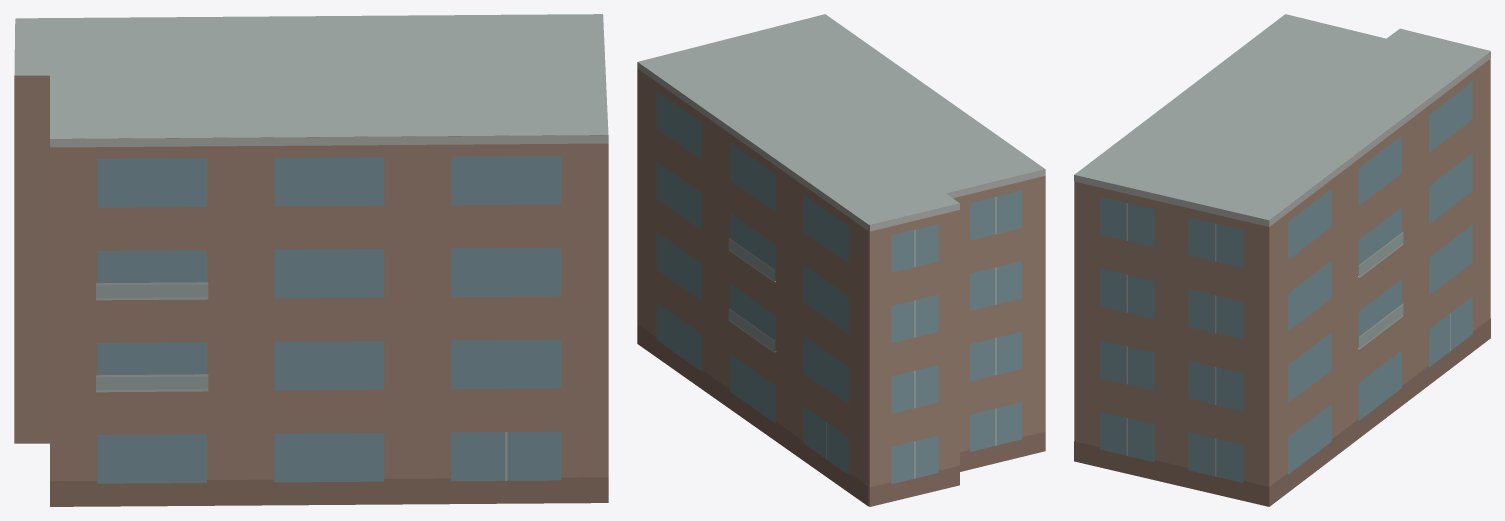
File: survey-upis-32944839.glb
3 views of the same model, side by side, from view 1: azimuth 30°, elevation 25°; view 2: azimuth 150°, elevation 25°; view 3: azimuth 270°, elevation 25° (orthographic). The views are drawn at different scales.
Visible parts, largest first — view 1: survey-upis-32944839.tmp; view 2: survey-upis-32944839.tmp; view 3: survey-upis-32944839.tmp.
Boxes of the visible parts, x1,y1,x2,y2 form: survey-upis-32944839.tmp: (14, 14, 608, 506); survey-upis-32944839.tmp: (637, 14, 1045, 506); survey-upis-32944839.tmp: (1074, 14, 1490, 506).
Size of the model in its own units: 16.22 by 10.5 by 13.85.
